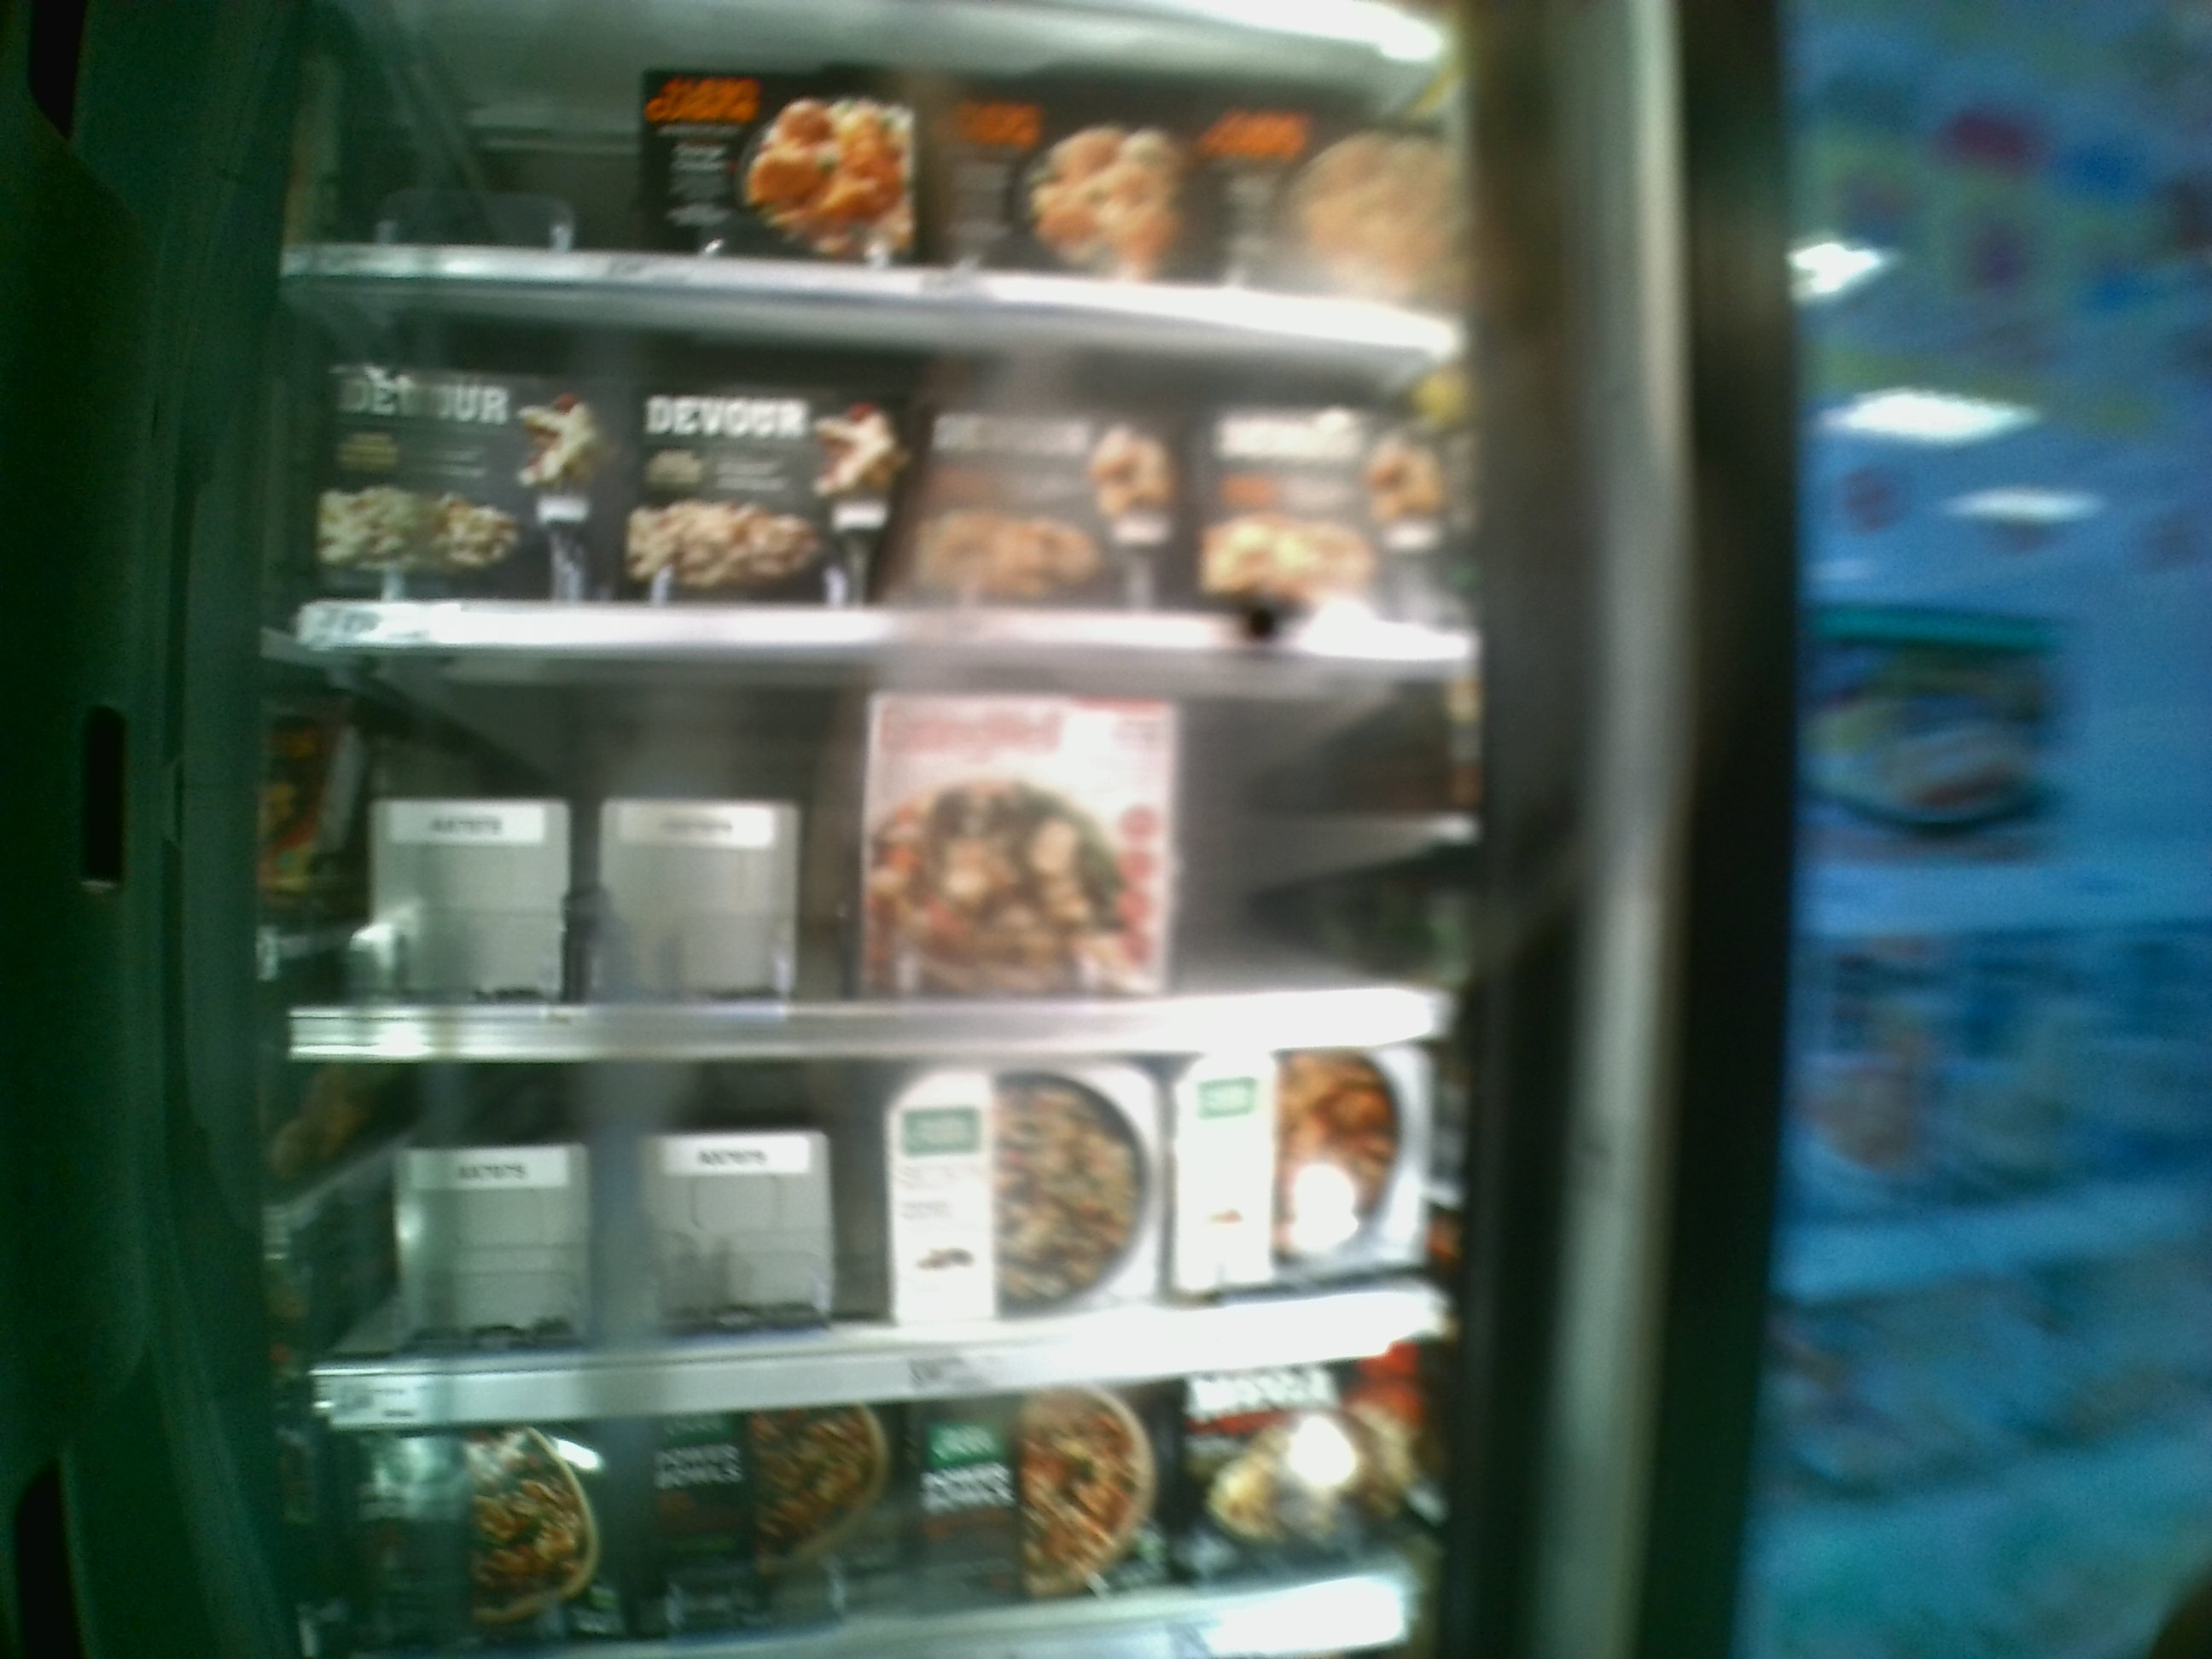Shelf: (294, 638, 1463, 1044), (275, 275, 1491, 660), (289, 1044, 1484, 1431)
